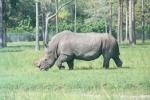rhino: (32, 30, 123, 70)
